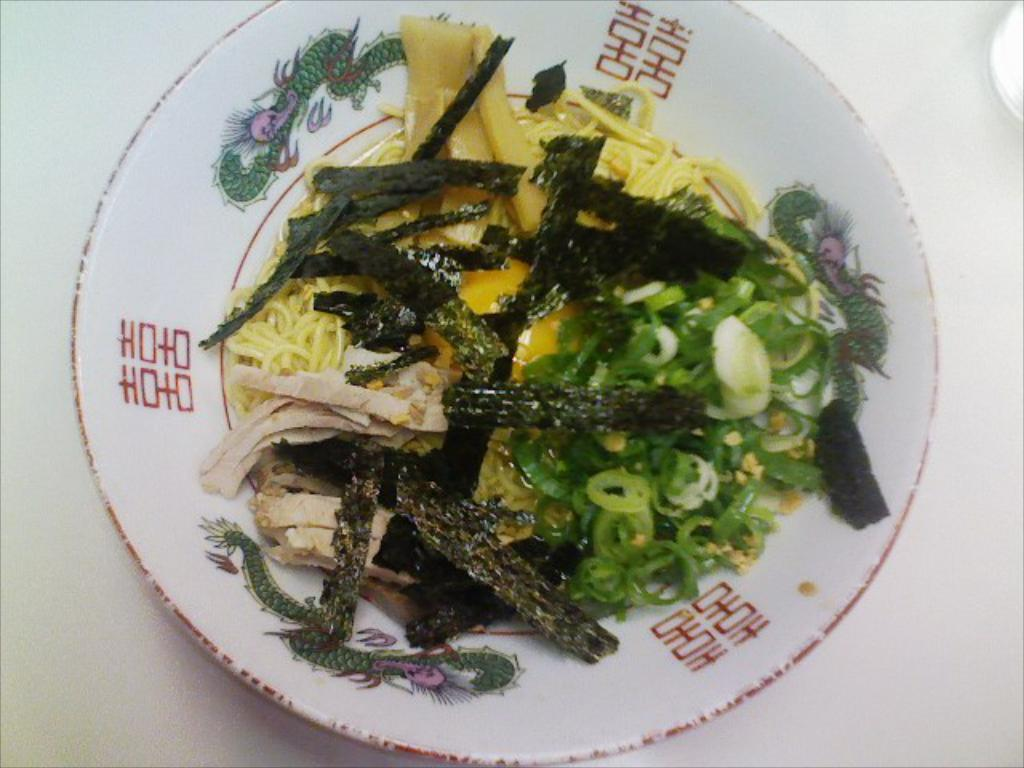salad: (104, 0, 877, 698)
